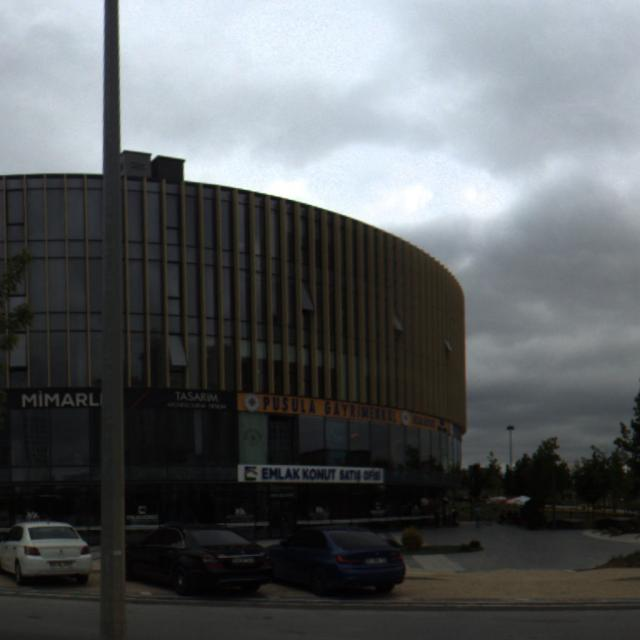SignStore: (238, 465, 384, 483)
